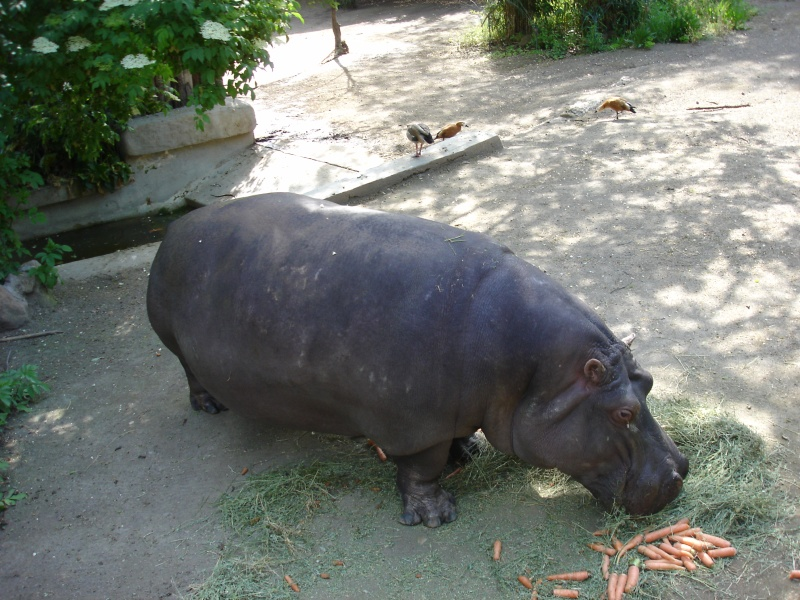hipopotamo: (145, 192, 693, 527)
